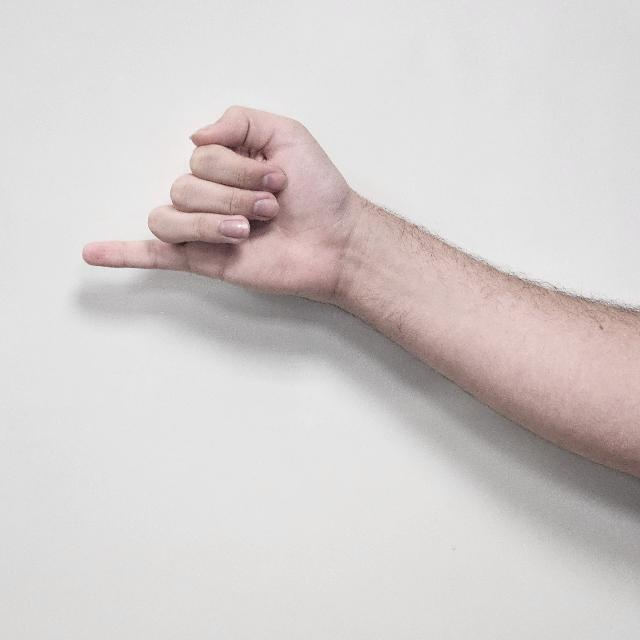Esquerda: (80, 102, 418, 342)
